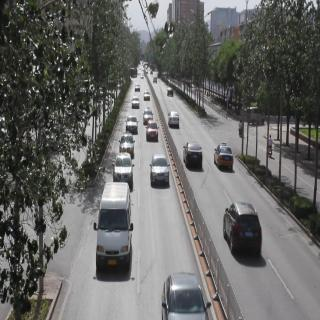Car: (97, 183, 139, 278), (223, 202, 265, 260), (161, 271, 209, 320), (151, 153, 172, 187), (184, 140, 204, 172), (215, 141, 236, 171), (114, 153, 134, 184), (143, 118, 161, 140), (120, 133, 136, 152), (124, 114, 138, 133), (168, 110, 182, 126), (164, 86, 178, 101), (132, 95, 141, 112), (144, 106, 153, 122), (143, 90, 153, 104)
